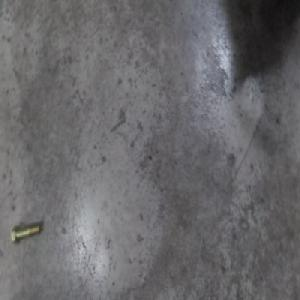Bolt: (14, 220, 43, 244)
